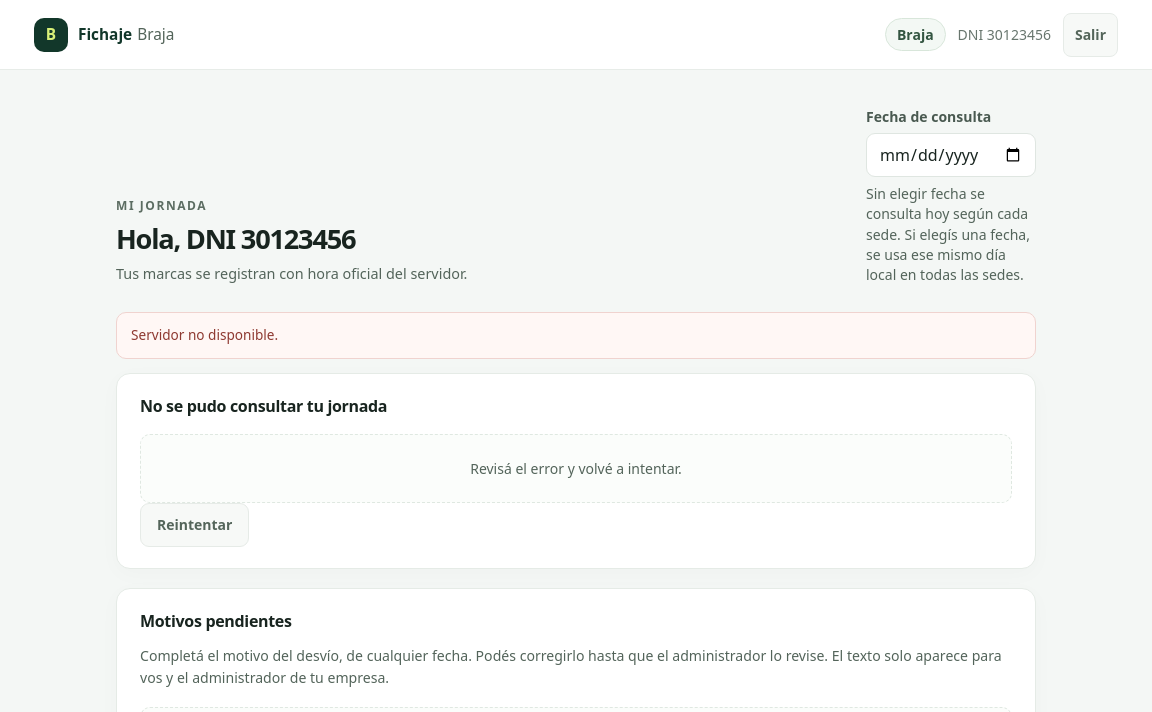
EmployeeApp › no presenta una consulta fallida como una jornada vacía y permite reintentar
Expected: the message reads "Servidor no disponible.", [131,326,278,344]
Expected: the heading "No se pudo consultar tu jornada" is shown, [140,395,387,417]
Click the button "Reintentar": {"x": 195, "y": 525} [140,503,249,547]
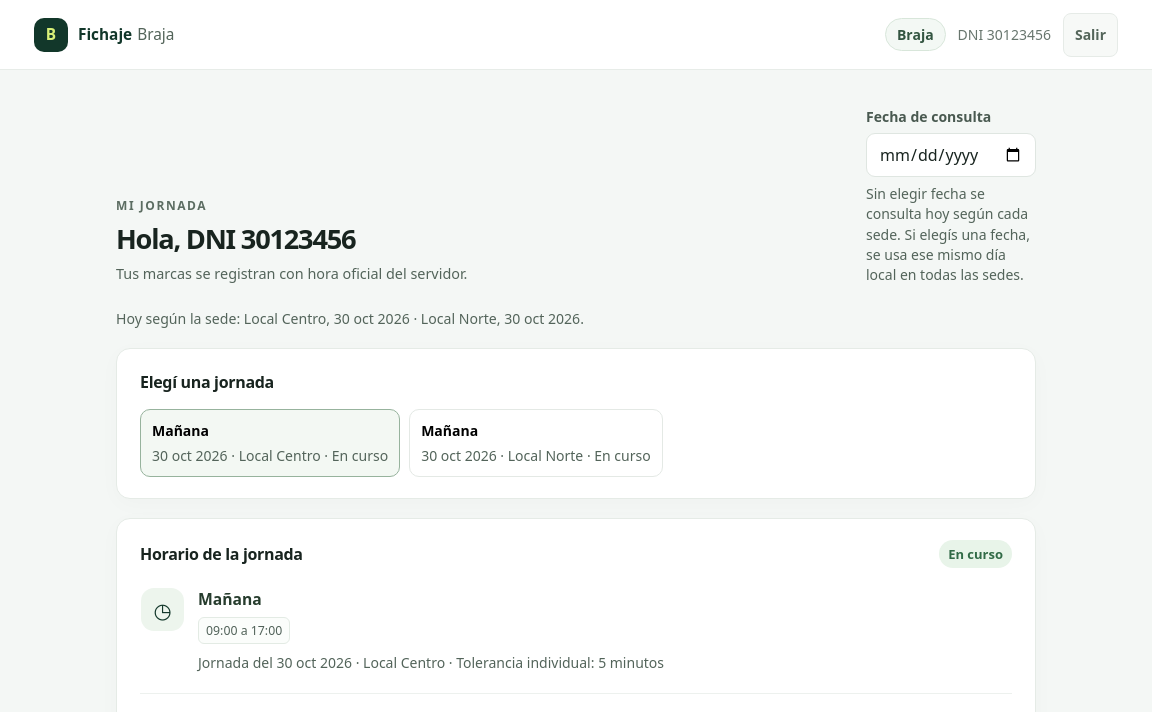
Expected: the number of buttons "Mañana 30 oct 2026 · Local Centro · En curso" is 2, [140,409,400,477]; [409,409,663,477]
